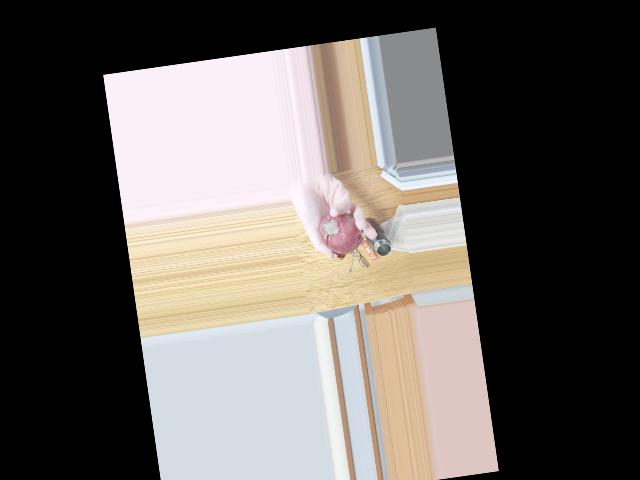onion: (315, 208, 362, 256)
